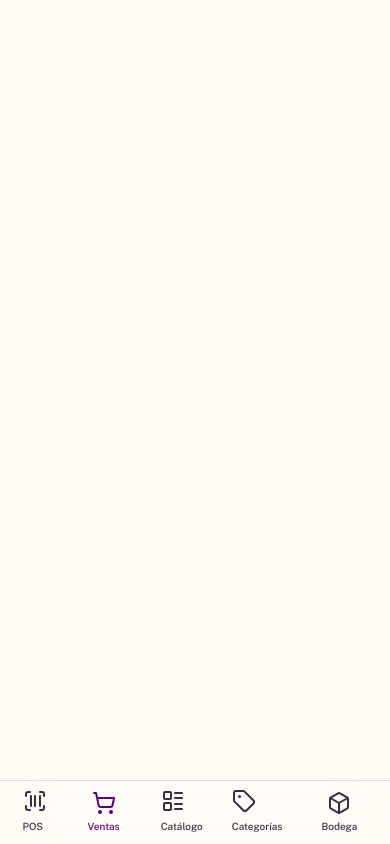
Scenario: BottomNav vendedor sin modulos excluidos › sheet Ventas (vendedor) › SI contiene Sala de Venta y NO Caja Mayor (permisos por rol)
Click the button "Ventas".
click(104, 812)  # box [76, 781, 132, 843]
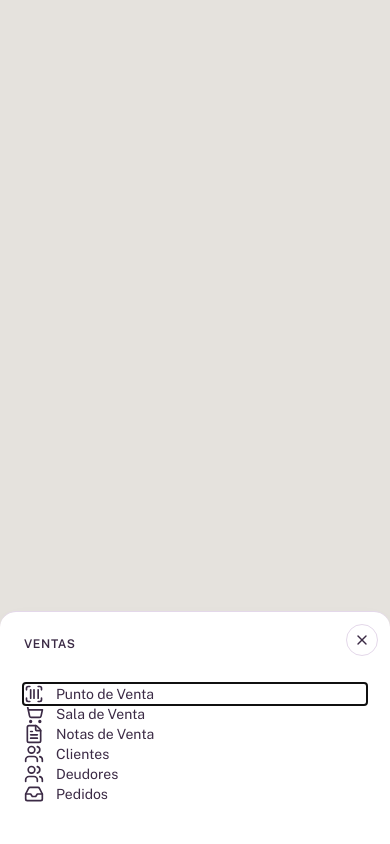
Check: the text "Sala de Venta" is shown, box [24, 704, 145, 724]
